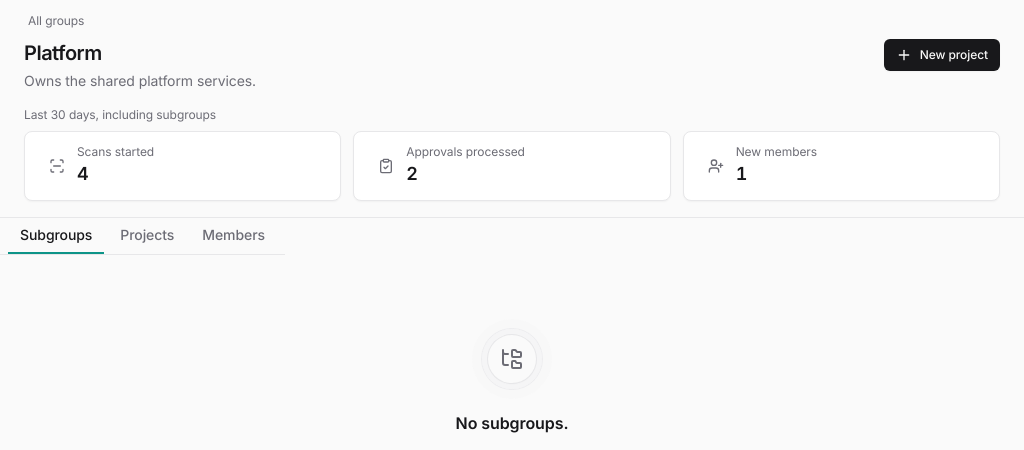
Test case: GroupDetailPage › the Members tab fetches direct/inherited members only once opened
Expected: the heading "Platform" is shown, left=24, top=41, right=102, bottom=65
Click the tab with test id "group-detail-tab-members" at (234, 236), box left=190, top=218, right=277, bottom=254
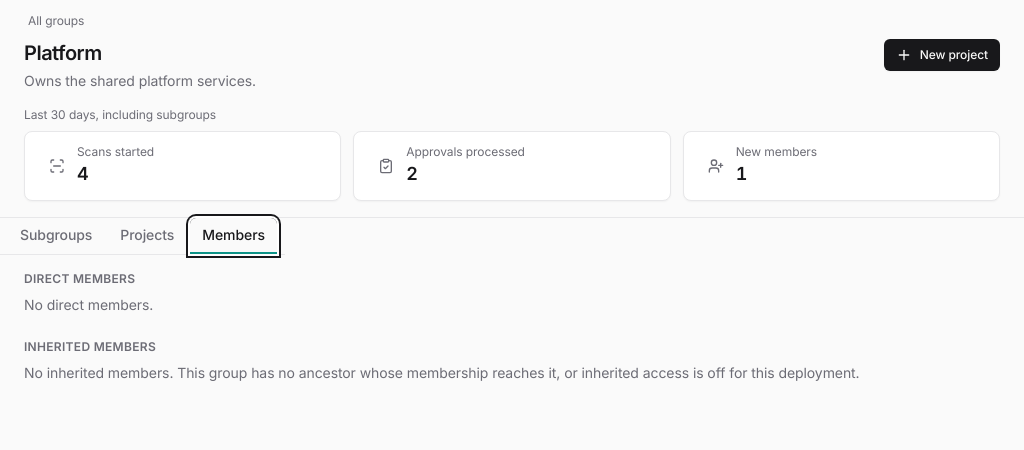
Expected: the text with test id "group-members-inherited-empty-state" is shown, left=24, top=363, right=1000, bottom=383
